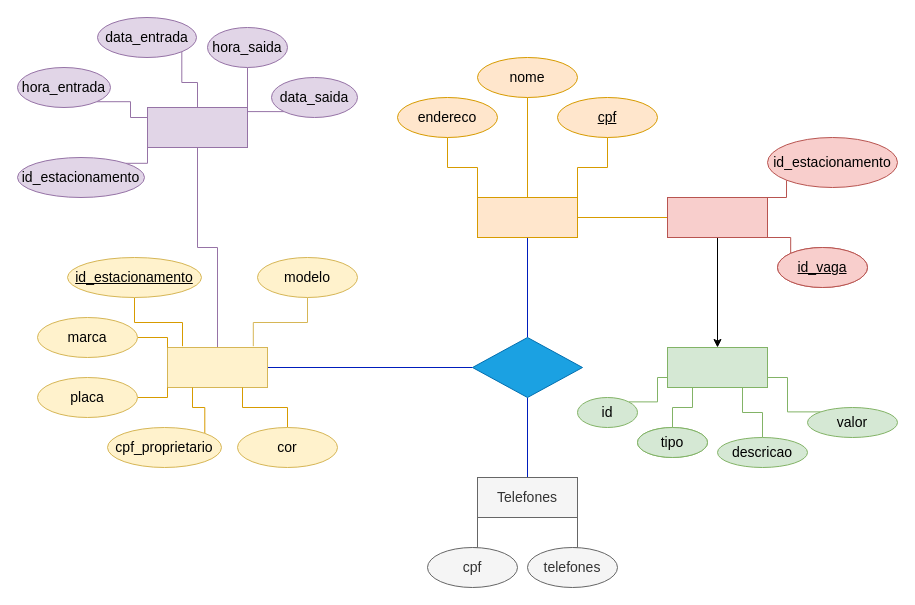
Some shapes in this 915 by 605 pixel diagram are drawn without their labels. The centre of each missing label's shape, as x and y in pixels:
Clientes: pixel 527 217
estacionamento: pixel 197 127
Possuem: pixel 527 367
rel_vagas: pixel 717 217
vagas: pixel 717 367
Veiculos: pixel 217 367
